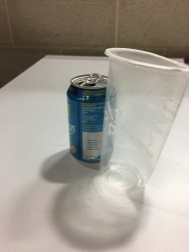can_blue: (61, 71, 121, 183)
